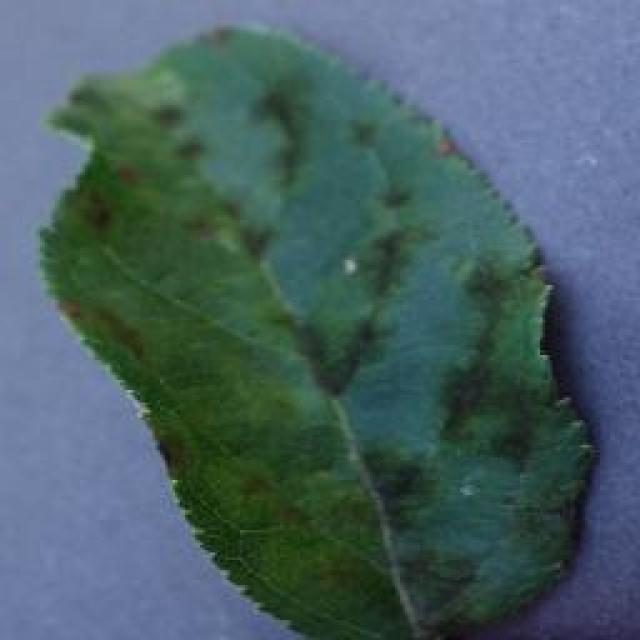App_scab: (317, 433, 468, 625), (424, 268, 550, 460), (262, 287, 390, 408), (242, 80, 334, 192)
